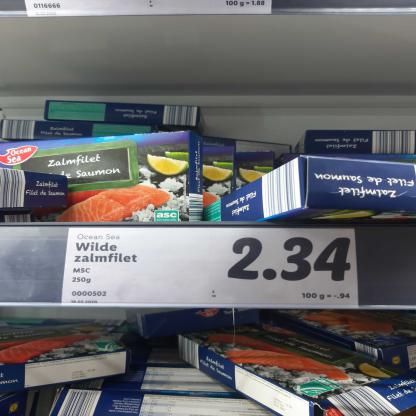prtg: (63, 229, 360, 310)
